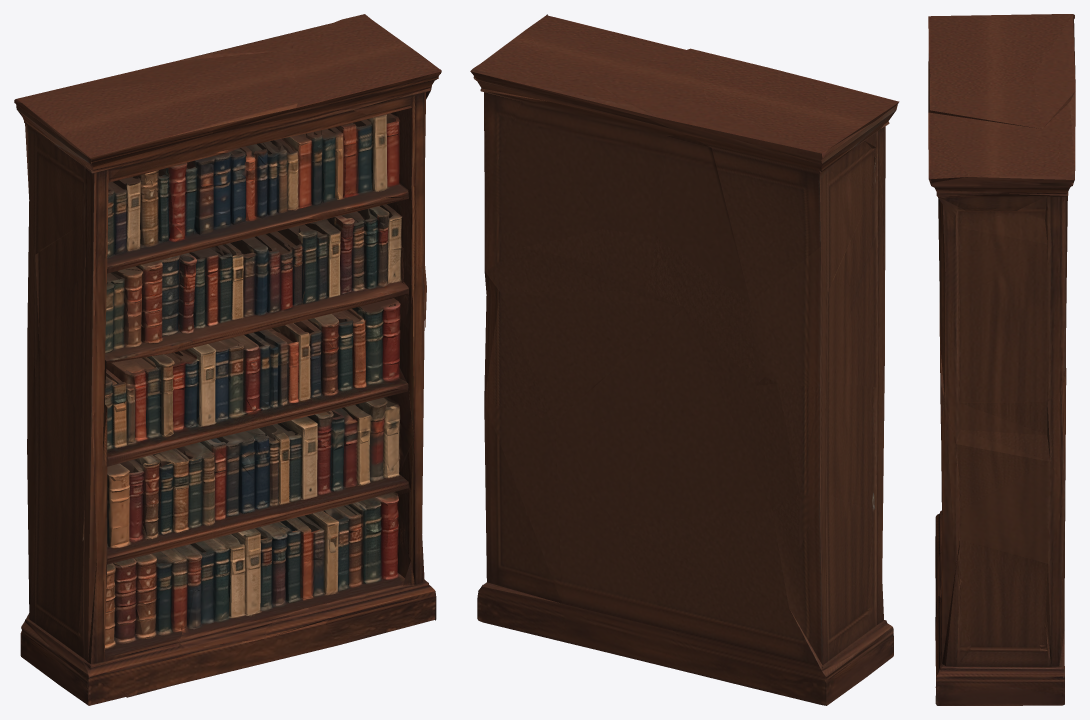
Rendered from bookcase.glb.
3 views of the same model, side by side, from view 1: azimuth 30°, elevation 25°; view 2: azimuth 150°, elevation 25°; view 3: azimuth 270°, elevation 25° (orthographic). The views are drawn at different scales.
Parts seen in each view (by area): view 1: Mesh_0; view 2: Mesh_0; view 3: Mesh_0.
Part boxes in pixels (x1,y1,x2,y2): Mesh_0: (14, 14, 441, 705); Mesh_0: (470, 14, 899, 705); Mesh_0: (928, 14, 1075, 705).
Size of the model in its own units: 1.26 by 1.9 by 0.4789.
1 material, 1 textured.
